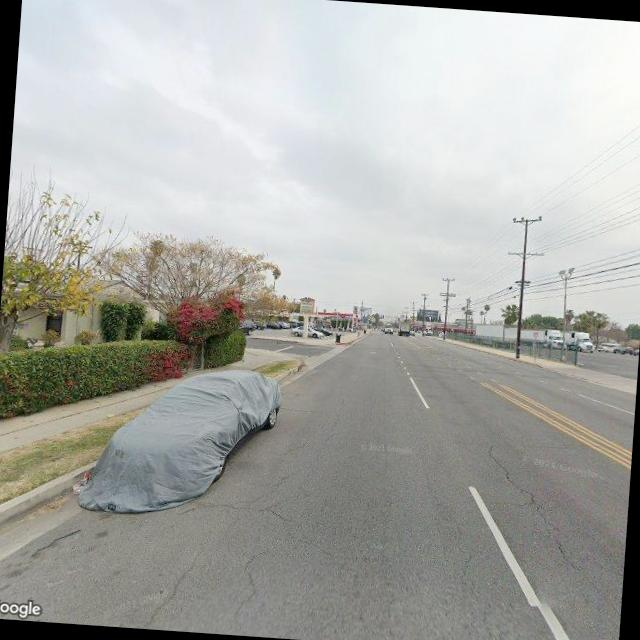pothole: (462, 424, 598, 572), (232, 419, 318, 618), (150, 543, 199, 624)
